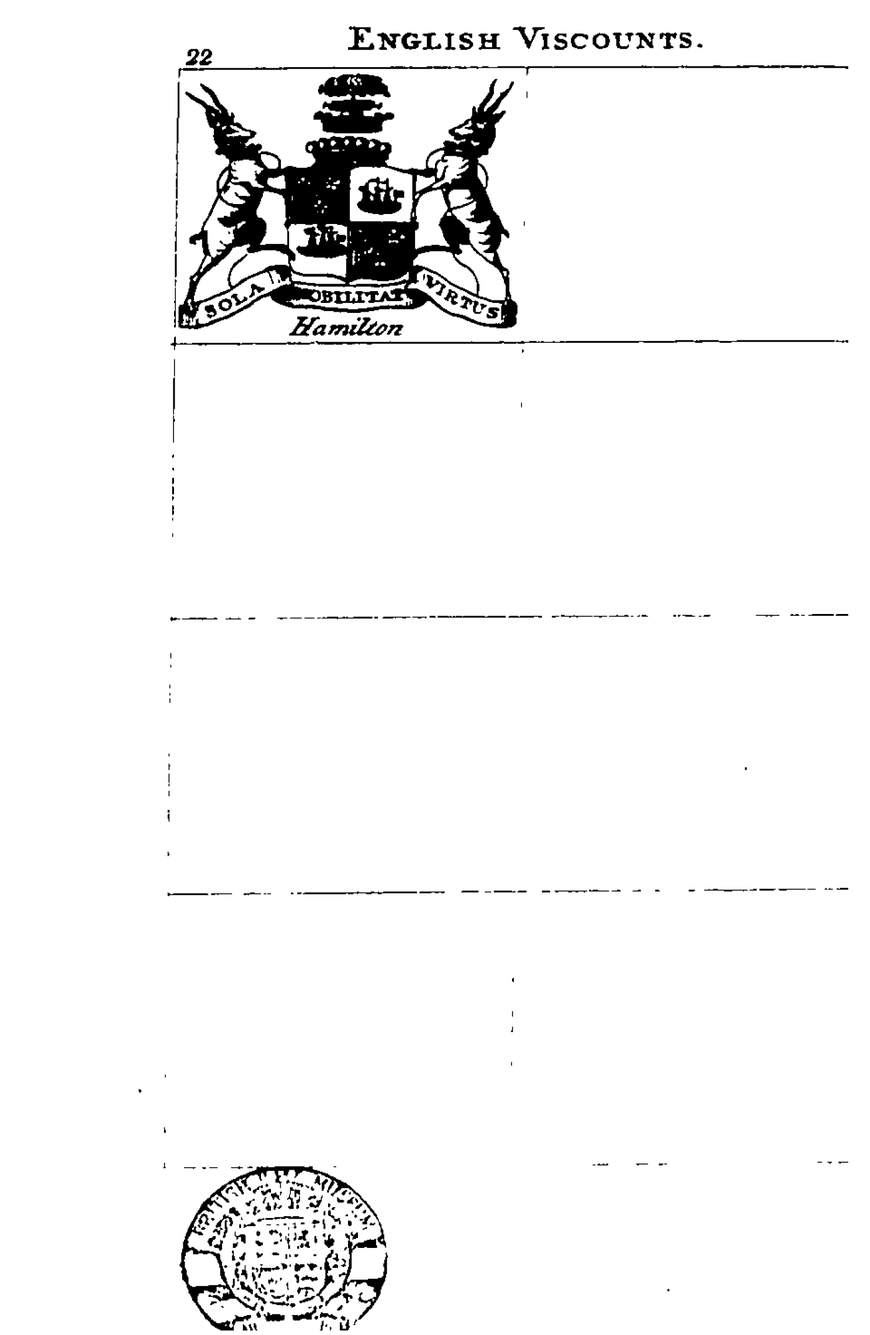coat_of_arms: (181, 77, 515, 337)
